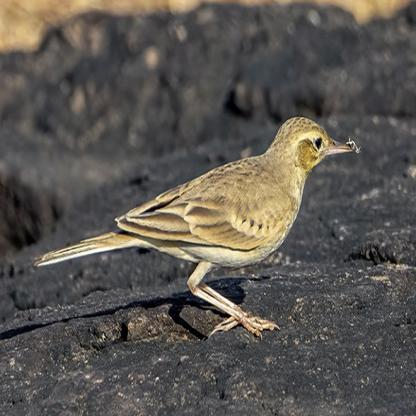Burung: (35, 115, 355, 334)
